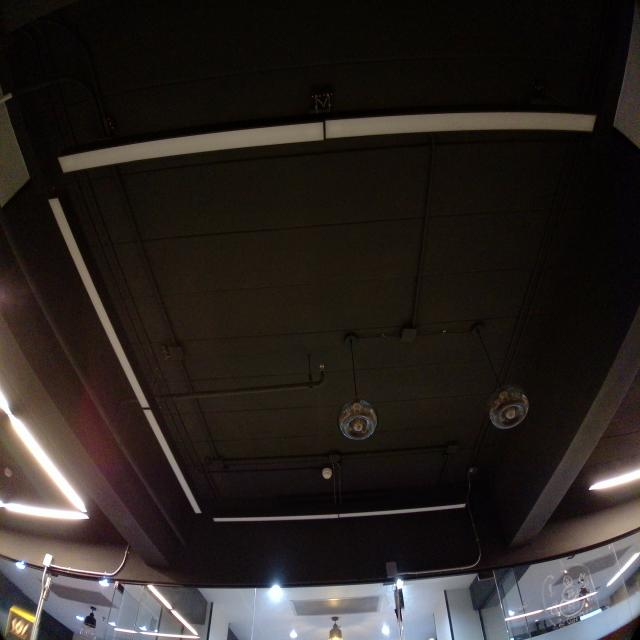lamp2_off: (41, 191, 210, 522), (52, 109, 605, 179), (210, 498, 470, 527)
